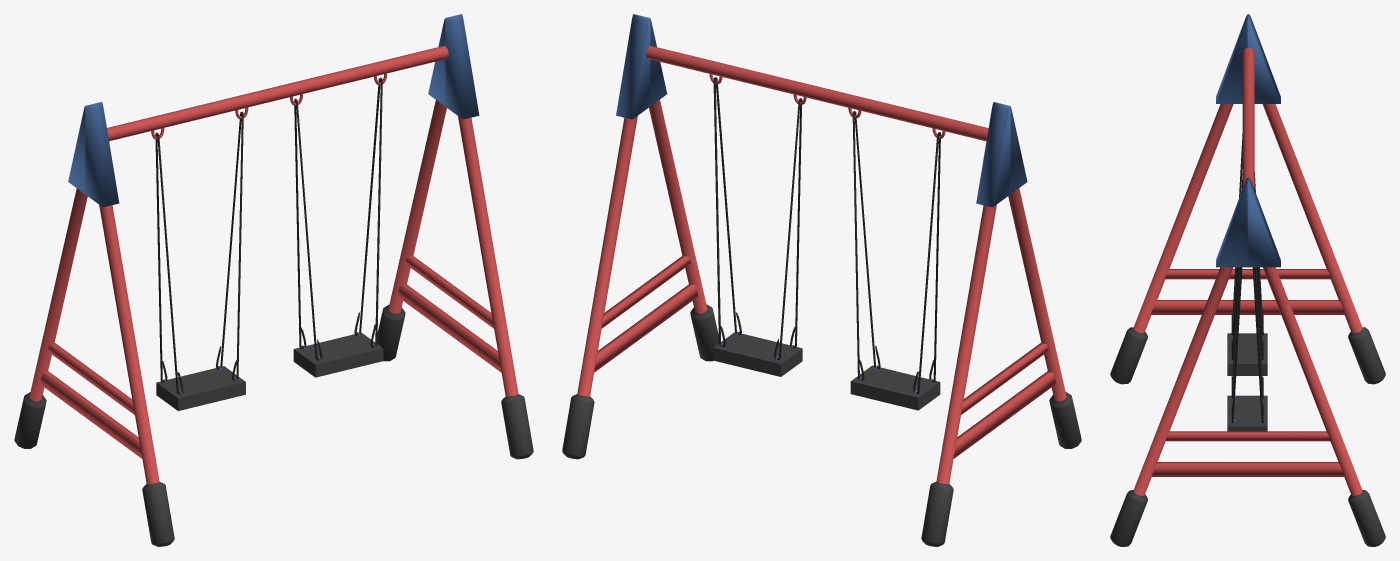
The model's file is Swing.fbx.
3 renders of one model, left to right at view 1: azimuth 30°, elevation 25°; view 2: azimuth 150°, elevation 25°; view 3: azimuth 270°, elevation 25°, orthographic. The views are drawn at different scales.
Parts seen in each view (by area): view 1: Swing seat, Swing seat.001; view 2: Swing seat, Swing seat.001; view 3: Swing seat, Swing seat.001.
Boxes of the visible parts, x1=… form: Swing seat: x1=14, y1=14, x2=533, y2=546; Swing seat.001: x1=155, y1=77, x2=383, y2=410; Swing seat: x1=562, y1=14, x2=1081, y2=546; Swing seat.001: x1=713, y1=77, x2=940, y2=410; Swing seat: x1=1110, y1=14, x2=1385, y2=546; Swing seat.001: x1=1227, y1=133, x2=1267, y2=431.
Size of the model in its own units: 473 by 469 by 321.
